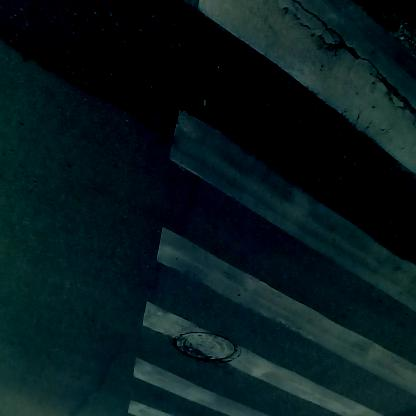crosswalk: (118, 10, 415, 413)
